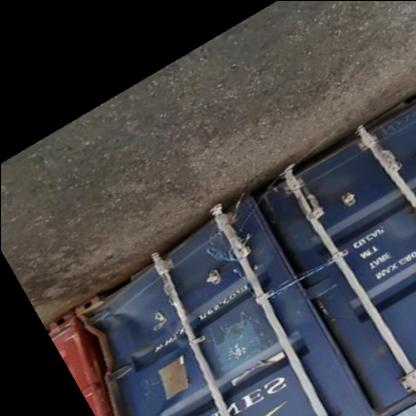Damage: (206, 312, 284, 390), (93, 296, 163, 371), (197, 214, 262, 288)
